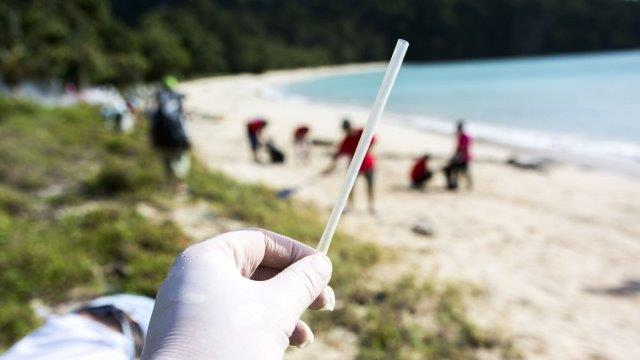sedotan: (309, 37, 406, 285)
